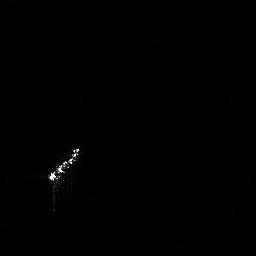ship: (42, 143, 83, 196)
